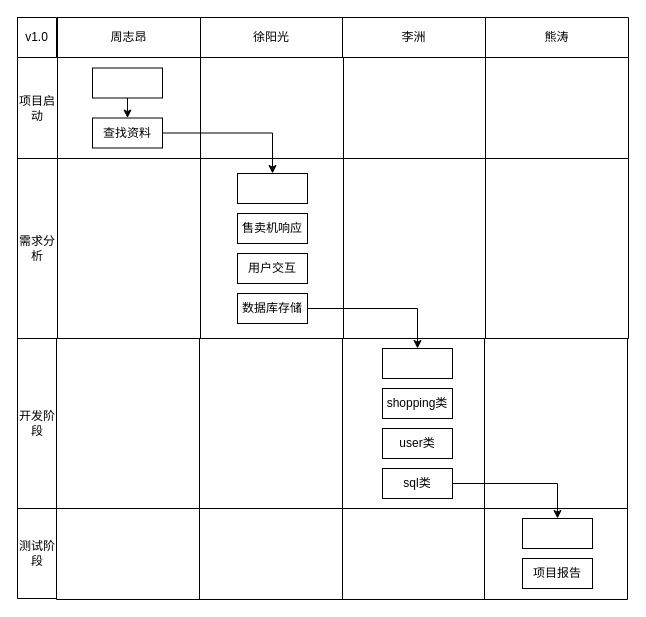
Image size: 646x617. Some labels were removed from this diagram. The shapes that lost their labels are listed below. From the top down, each one's centre as x and y in pixels, then its label:
At [127,82]: "确定产品".
At [272,188]: "货物管理".
At [417,363]: "goods类".
At [557,533]: "功能测试".
